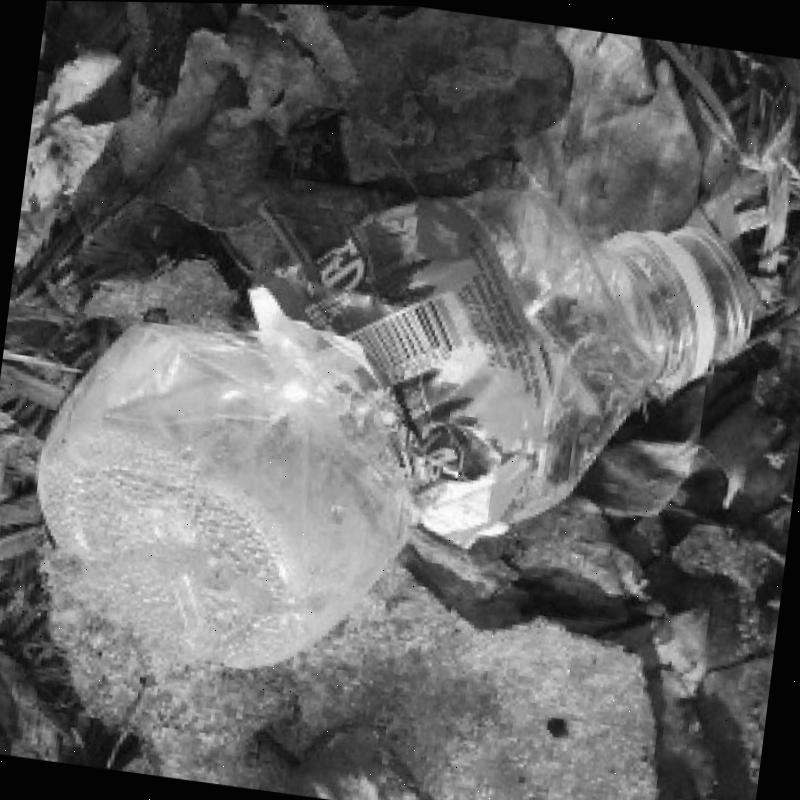botella: (12, 121, 768, 730)
